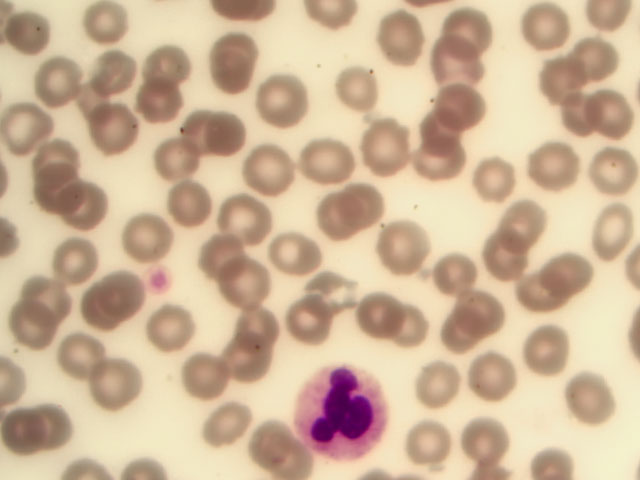Platelets: (151, 270, 169, 294)
RBC: (30, 55, 83, 113), (86, 42, 139, 100), (139, 29, 192, 87), (130, 73, 183, 131), (96, 102, 149, 160), (28, 118, 81, 176), (5, 99, 58, 157), (30, 159, 83, 217), (57, 180, 110, 238), (51, 228, 104, 286), (24, 267, 77, 325), (1, 304, 54, 362), (55, 327, 108, 385), (88, 364, 141, 422), (70, 285, 123, 343), (97, 265, 150, 323), (117, 204, 170, 262), (167, 170, 220, 228), (153, 130, 206, 188), (160, 98, 213, 156), (206, 108, 259, 166), (266, 76, 319, 134), (213, 32, 266, 90), (331, 58, 384, 116), (356, 116, 409, 174), (303, 130, 356, 188), (251, 139, 304, 197), (211, 183, 264, 241), (194, 221, 247, 279), (223, 247, 276, 305), (232, 287, 285, 345), (220, 325, 273, 383), (187, 349, 240, 407), (145, 310, 198, 368), (207, 394, 260, 452), (237, 416, 290, 474), (406, 422, 459, 480), (418, 353, 471, 411), (387, 305, 440, 363), (354, 285, 407, 343), (309, 267, 362, 325), (291, 290, 344, 348), (274, 233, 327, 291), (317, 190, 370, 248), (340, 175, 393, 233), (373, 220, 426, 278), (416, 241, 469, 299), (459, 278, 512, 336), (446, 307, 499, 365), (474, 339, 527, 397), (523, 326, 576, 384), (521, 264, 574, 322), (550, 247, 603, 305), (480, 232, 533, 290), (505, 198, 558, 256), (472, 154, 525, 212), (404, 148, 457, 206), (414, 101, 467, 159), (442, 63, 495, 121), (433, 34, 486, 92), (447, 9, 500, 67), (370, 9, 423, 67), (526, 4, 579, 62), (526, 46, 579, 104), (564, 27, 617, 85), (549, 75, 602, 133), (574, 84, 627, 142), (585, 136, 638, 194), (584, 208, 637, 266), (558, 369, 611, 427), (458, 408, 511, 466), (84, 1, 137, 58), (1, 403, 53, 461), (4, 6, 57, 60)
WBC: (296, 362, 393, 453)
